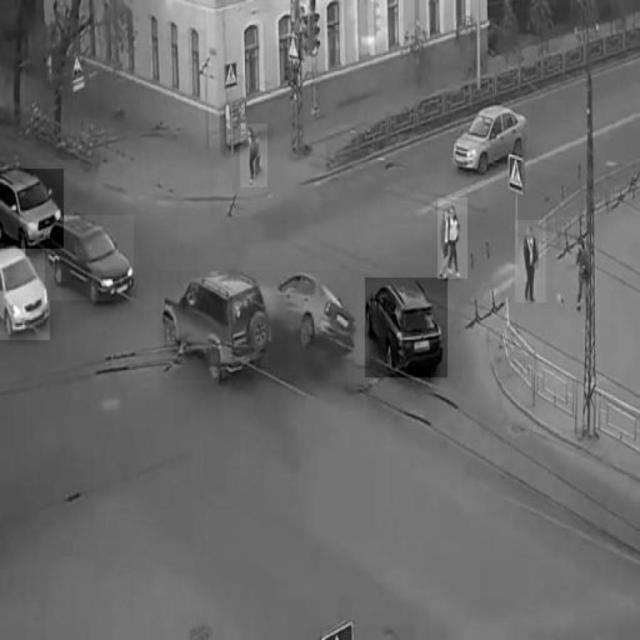accident: (158, 271, 355, 381)
person: (515, 220, 545, 302), (438, 198, 468, 279), (241, 124, 268, 188)
vehicle: (365, 278, 447, 378), (46, 215, 134, 299), (452, 102, 530, 172), (0, 169, 64, 249), (0, 249, 50, 340)
